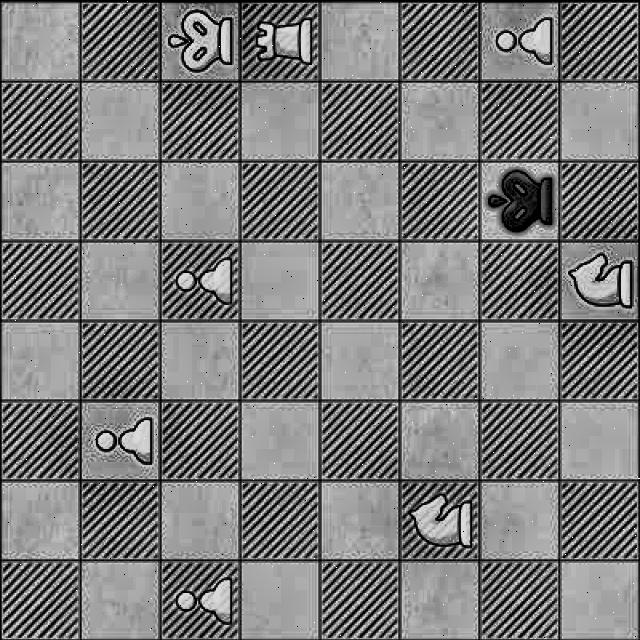black king: (484, 164, 558, 234)
white king: (160, 0, 238, 74)
white pawn: (484, 5, 556, 76), (166, 570, 240, 632), (162, 252, 240, 306), (82, 416, 158, 468)
white rook: (250, 4, 316, 74)
whiteknight: (401, 484, 477, 552), (570, 254, 634, 312)
